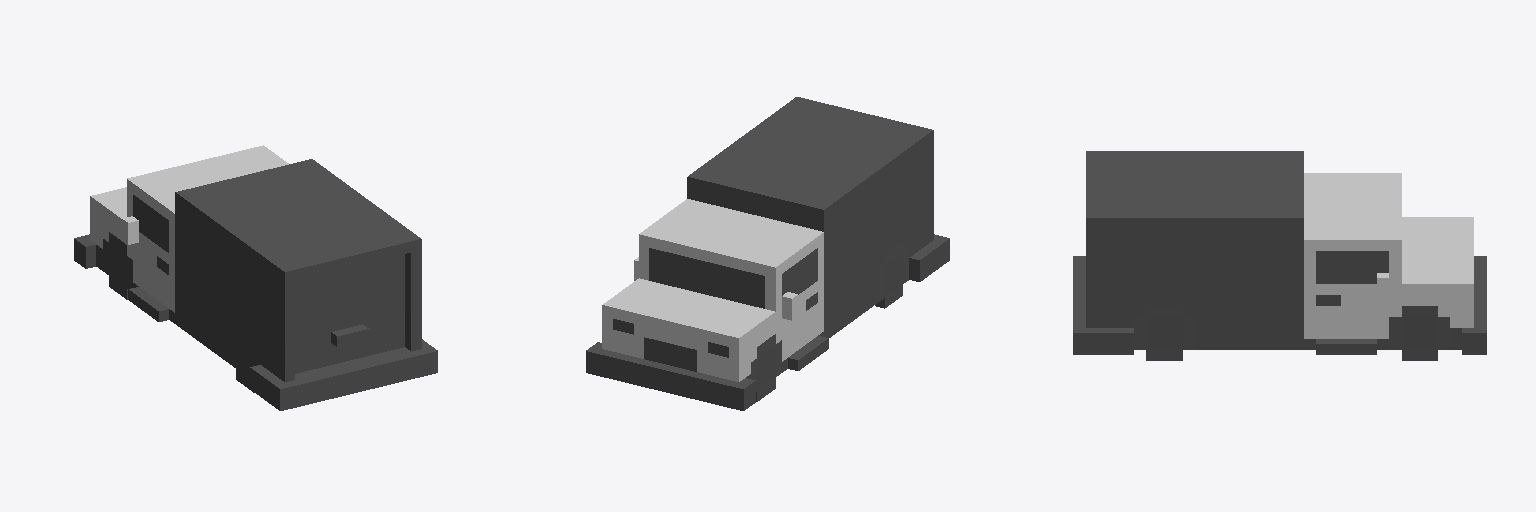
The picture shows the model from 3 angles: view 1: azimuth 30°, elevation 25°; view 2: azimuth 150°, elevation 25°; view 3: azimuth 270°, elevation 25°; orthographic projection.
Bounding box in the file's own units: 15 × 13 × 34.
1 materials, 1 textured.